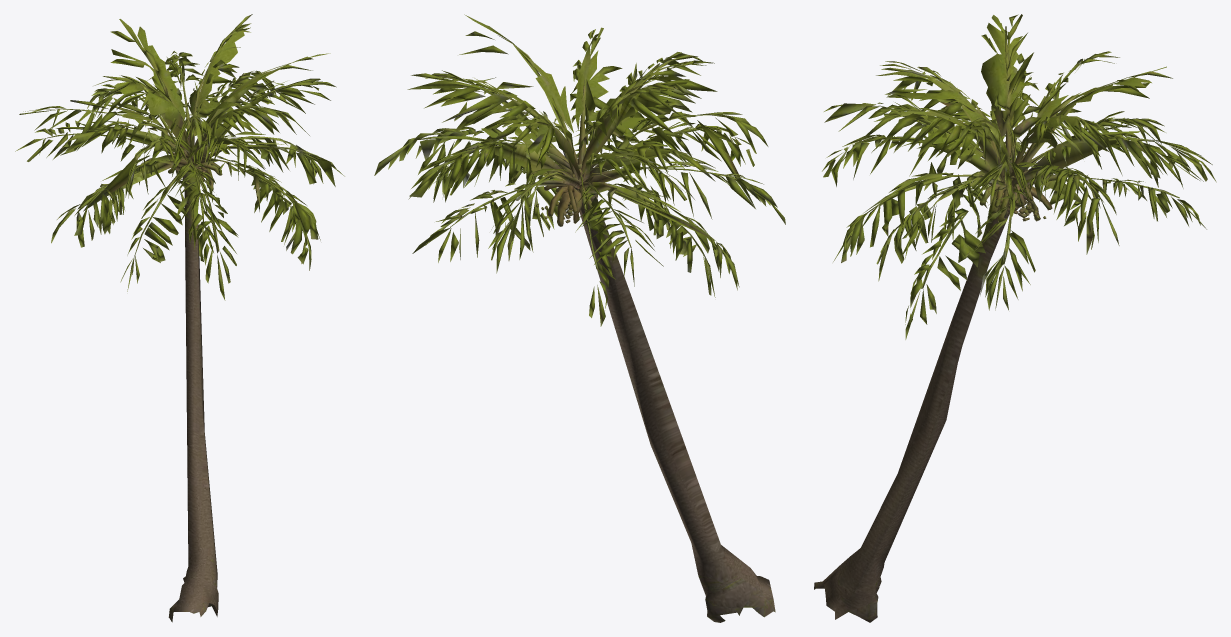
Rendered from tree-palm.glb.
3 renders of one model, left to right at view 1: azimuth 30°, elevation 25°; view 2: azimuth 150°, elevation 25°; view 3: azimuth 270°, elevation 25°, orthographic. The views are drawn at different scales.
Size of the model in its own units: 0.561 by 0.9473 by 0.5854.
Materials: 1 (1 with a texture image).
